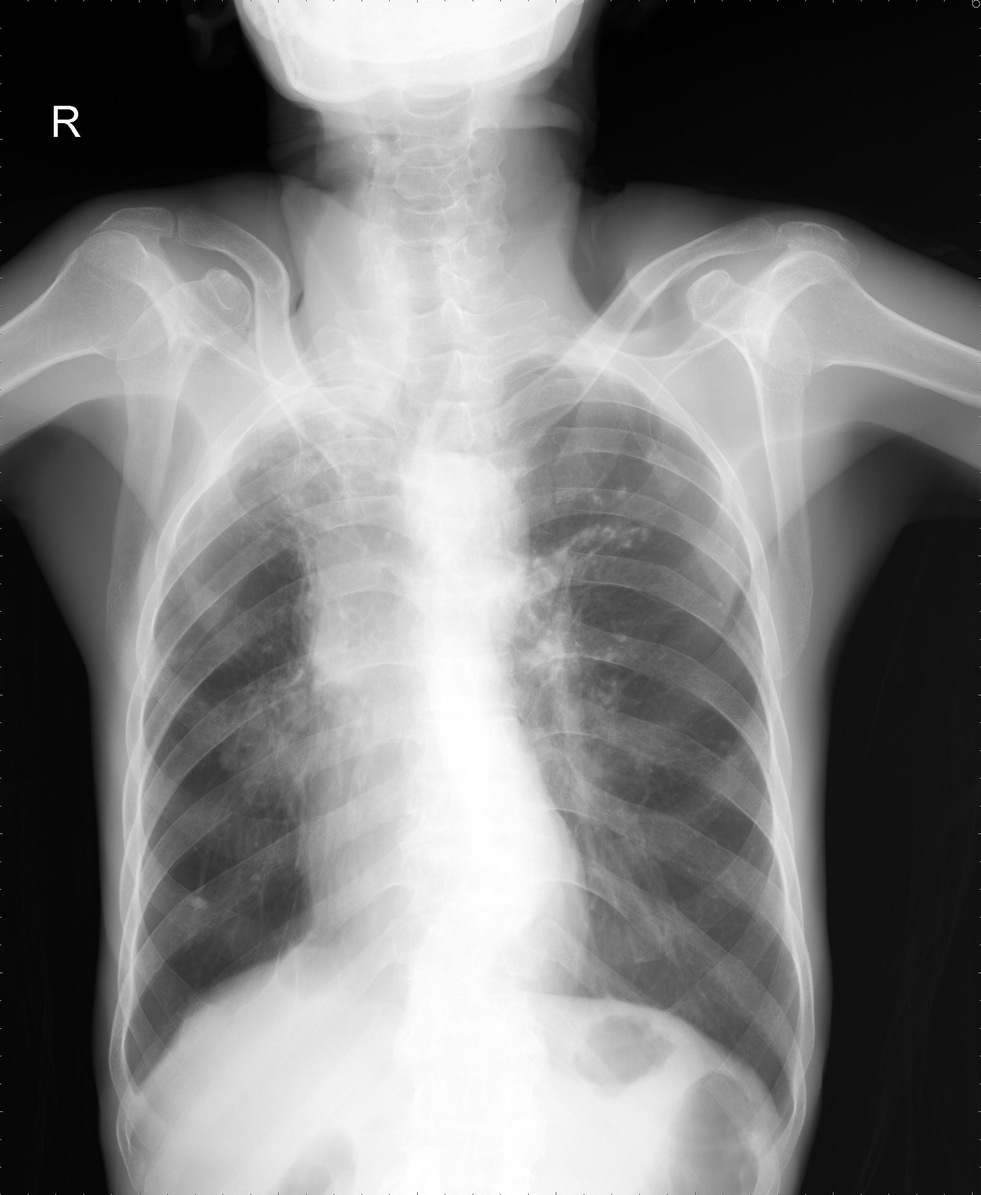Aortic enlargement: (398, 450, 531, 608)
Pleural thickening: (223, 385, 401, 666)
Pulmonary fibrosis: (219, 675, 312, 802), (515, 490, 649, 567)
